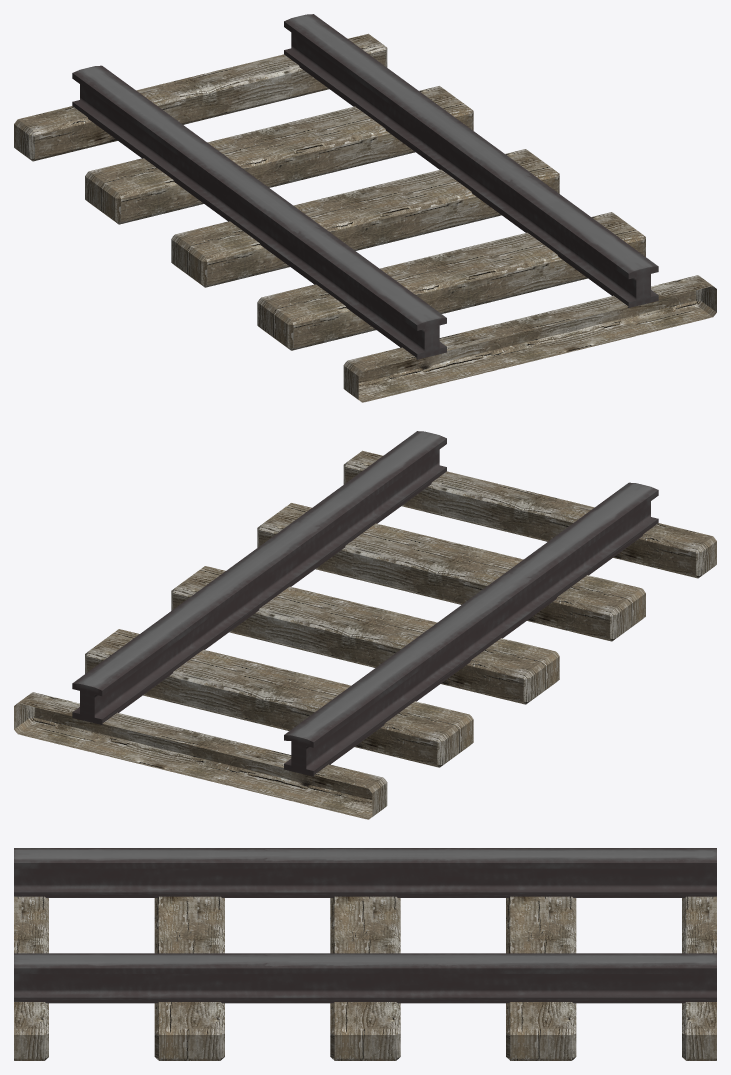
Rendered from Rails.fbx.
3 renders of one model, top to bottom at view 1: azimuth 30°, elevation 25°; view 2: azimuth 150°, elevation 25°; view 3: azimuth 270°, elevation 25°, orthographic.
Visible parts, largest first — view 1: polySurface1; view 2: polySurface1; view 3: polySurface1.
Part boxes in pixels (bbox=[...]): polySurface1: bbox=[14, 14, 716, 402]; polySurface1: bbox=[14, 431, 716, 819]; polySurface1: bbox=[14, 848, 716, 1060].
Size of the model in its own units: 12 by 2.1 by 20.
